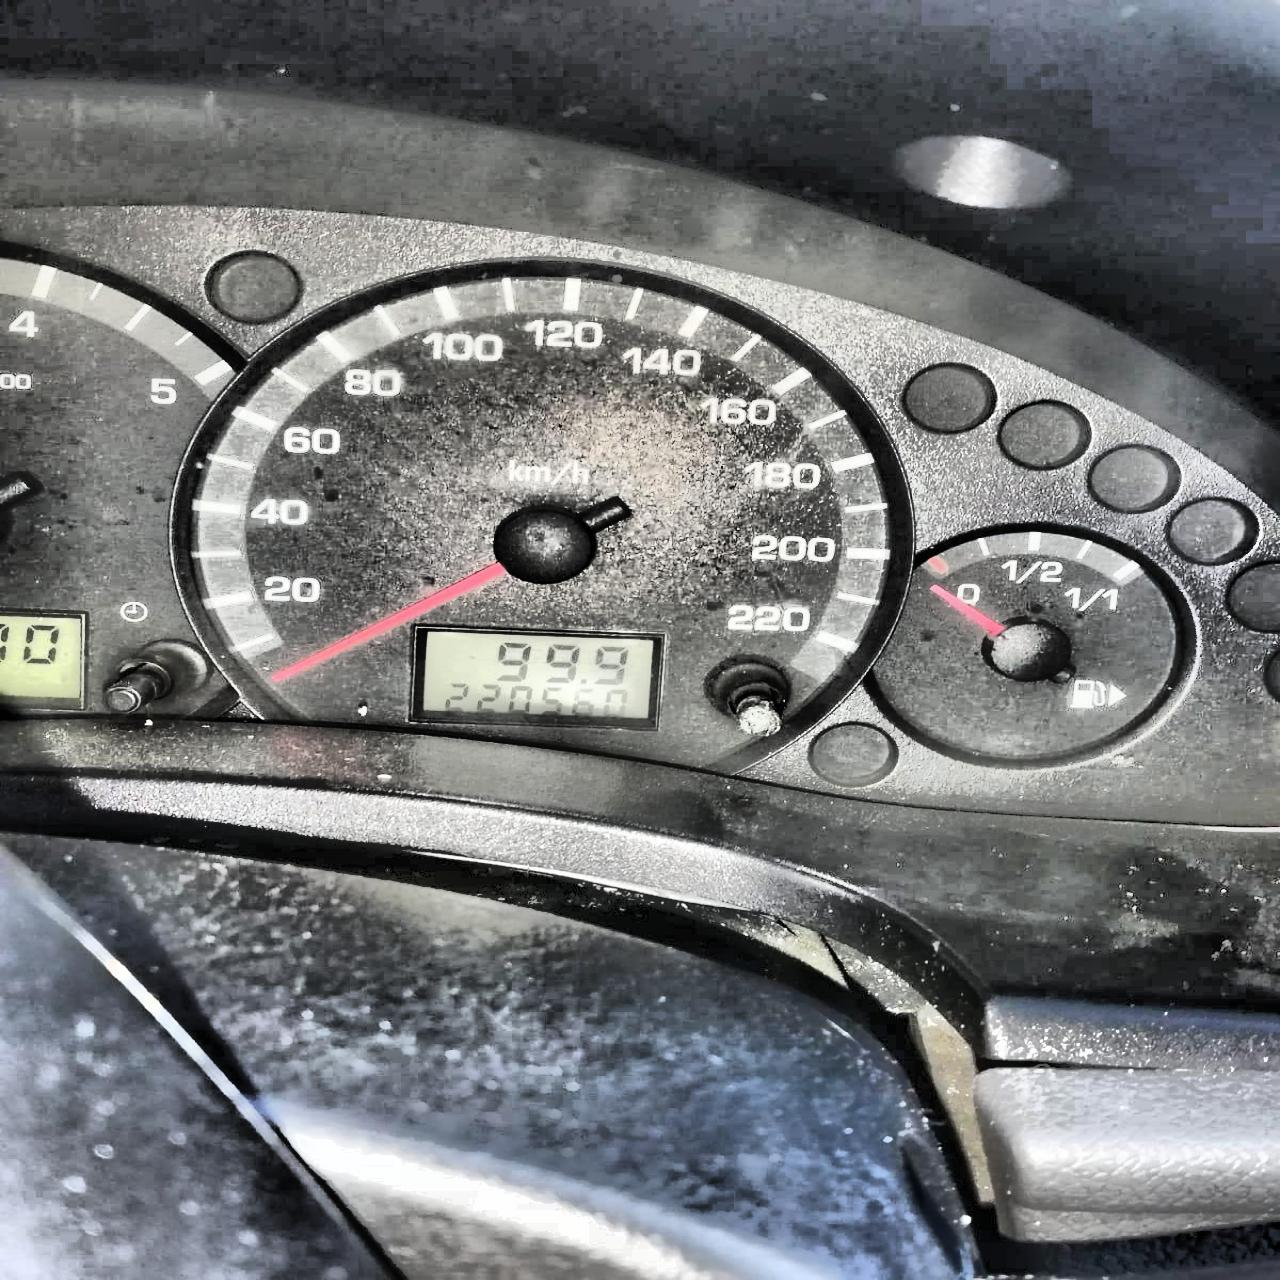-: (579, 676, 587, 686)
0: (602, 688, 627, 717), (508, 685, 532, 713)
2: (475, 683, 501, 713), (443, 682, 468, 712)
5: (539, 686, 564, 716)
6: (572, 687, 595, 715)
9: (495, 640, 531, 681), (544, 644, 579, 683), (593, 646, 628, 685)
odometer: (403, 621, 668, 734)
